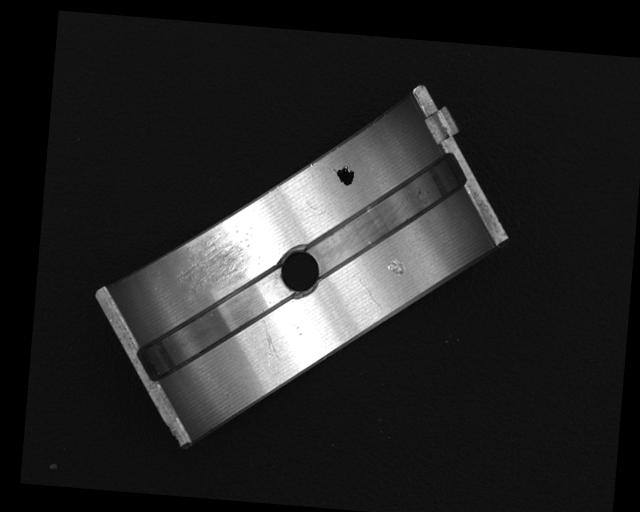blot: (333, 164, 356, 187)
bruise: (385, 257, 408, 276)
gap: (307, 147, 461, 282), (135, 268, 286, 392)
hole: (275, 246, 323, 296)
nick: (259, 316, 281, 366), (354, 276, 382, 306)
scratch: (171, 216, 261, 297)
